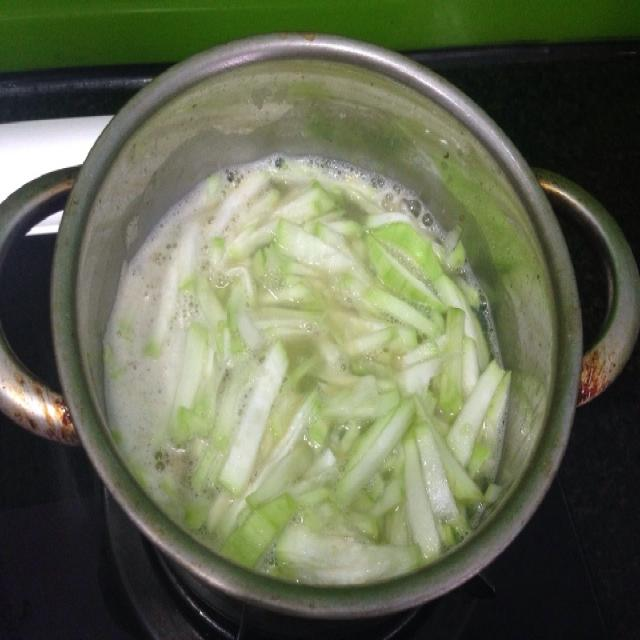canh bau: (103, 159, 552, 584)
